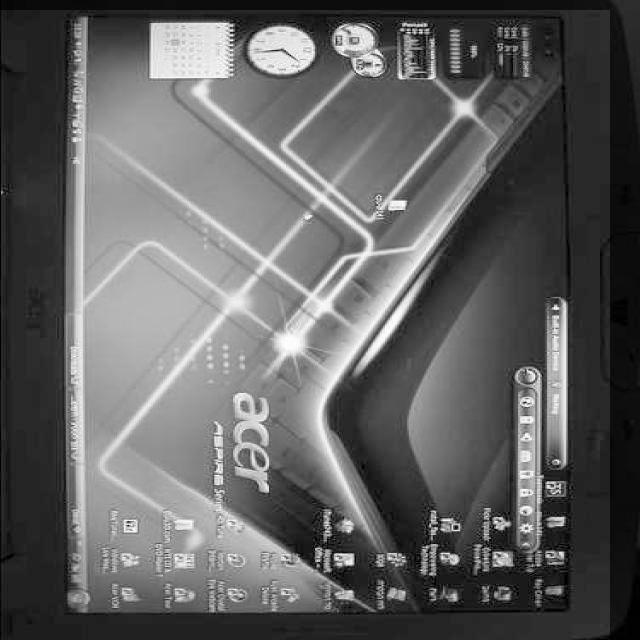-keyboard-: (0, 10, 610, 640)
